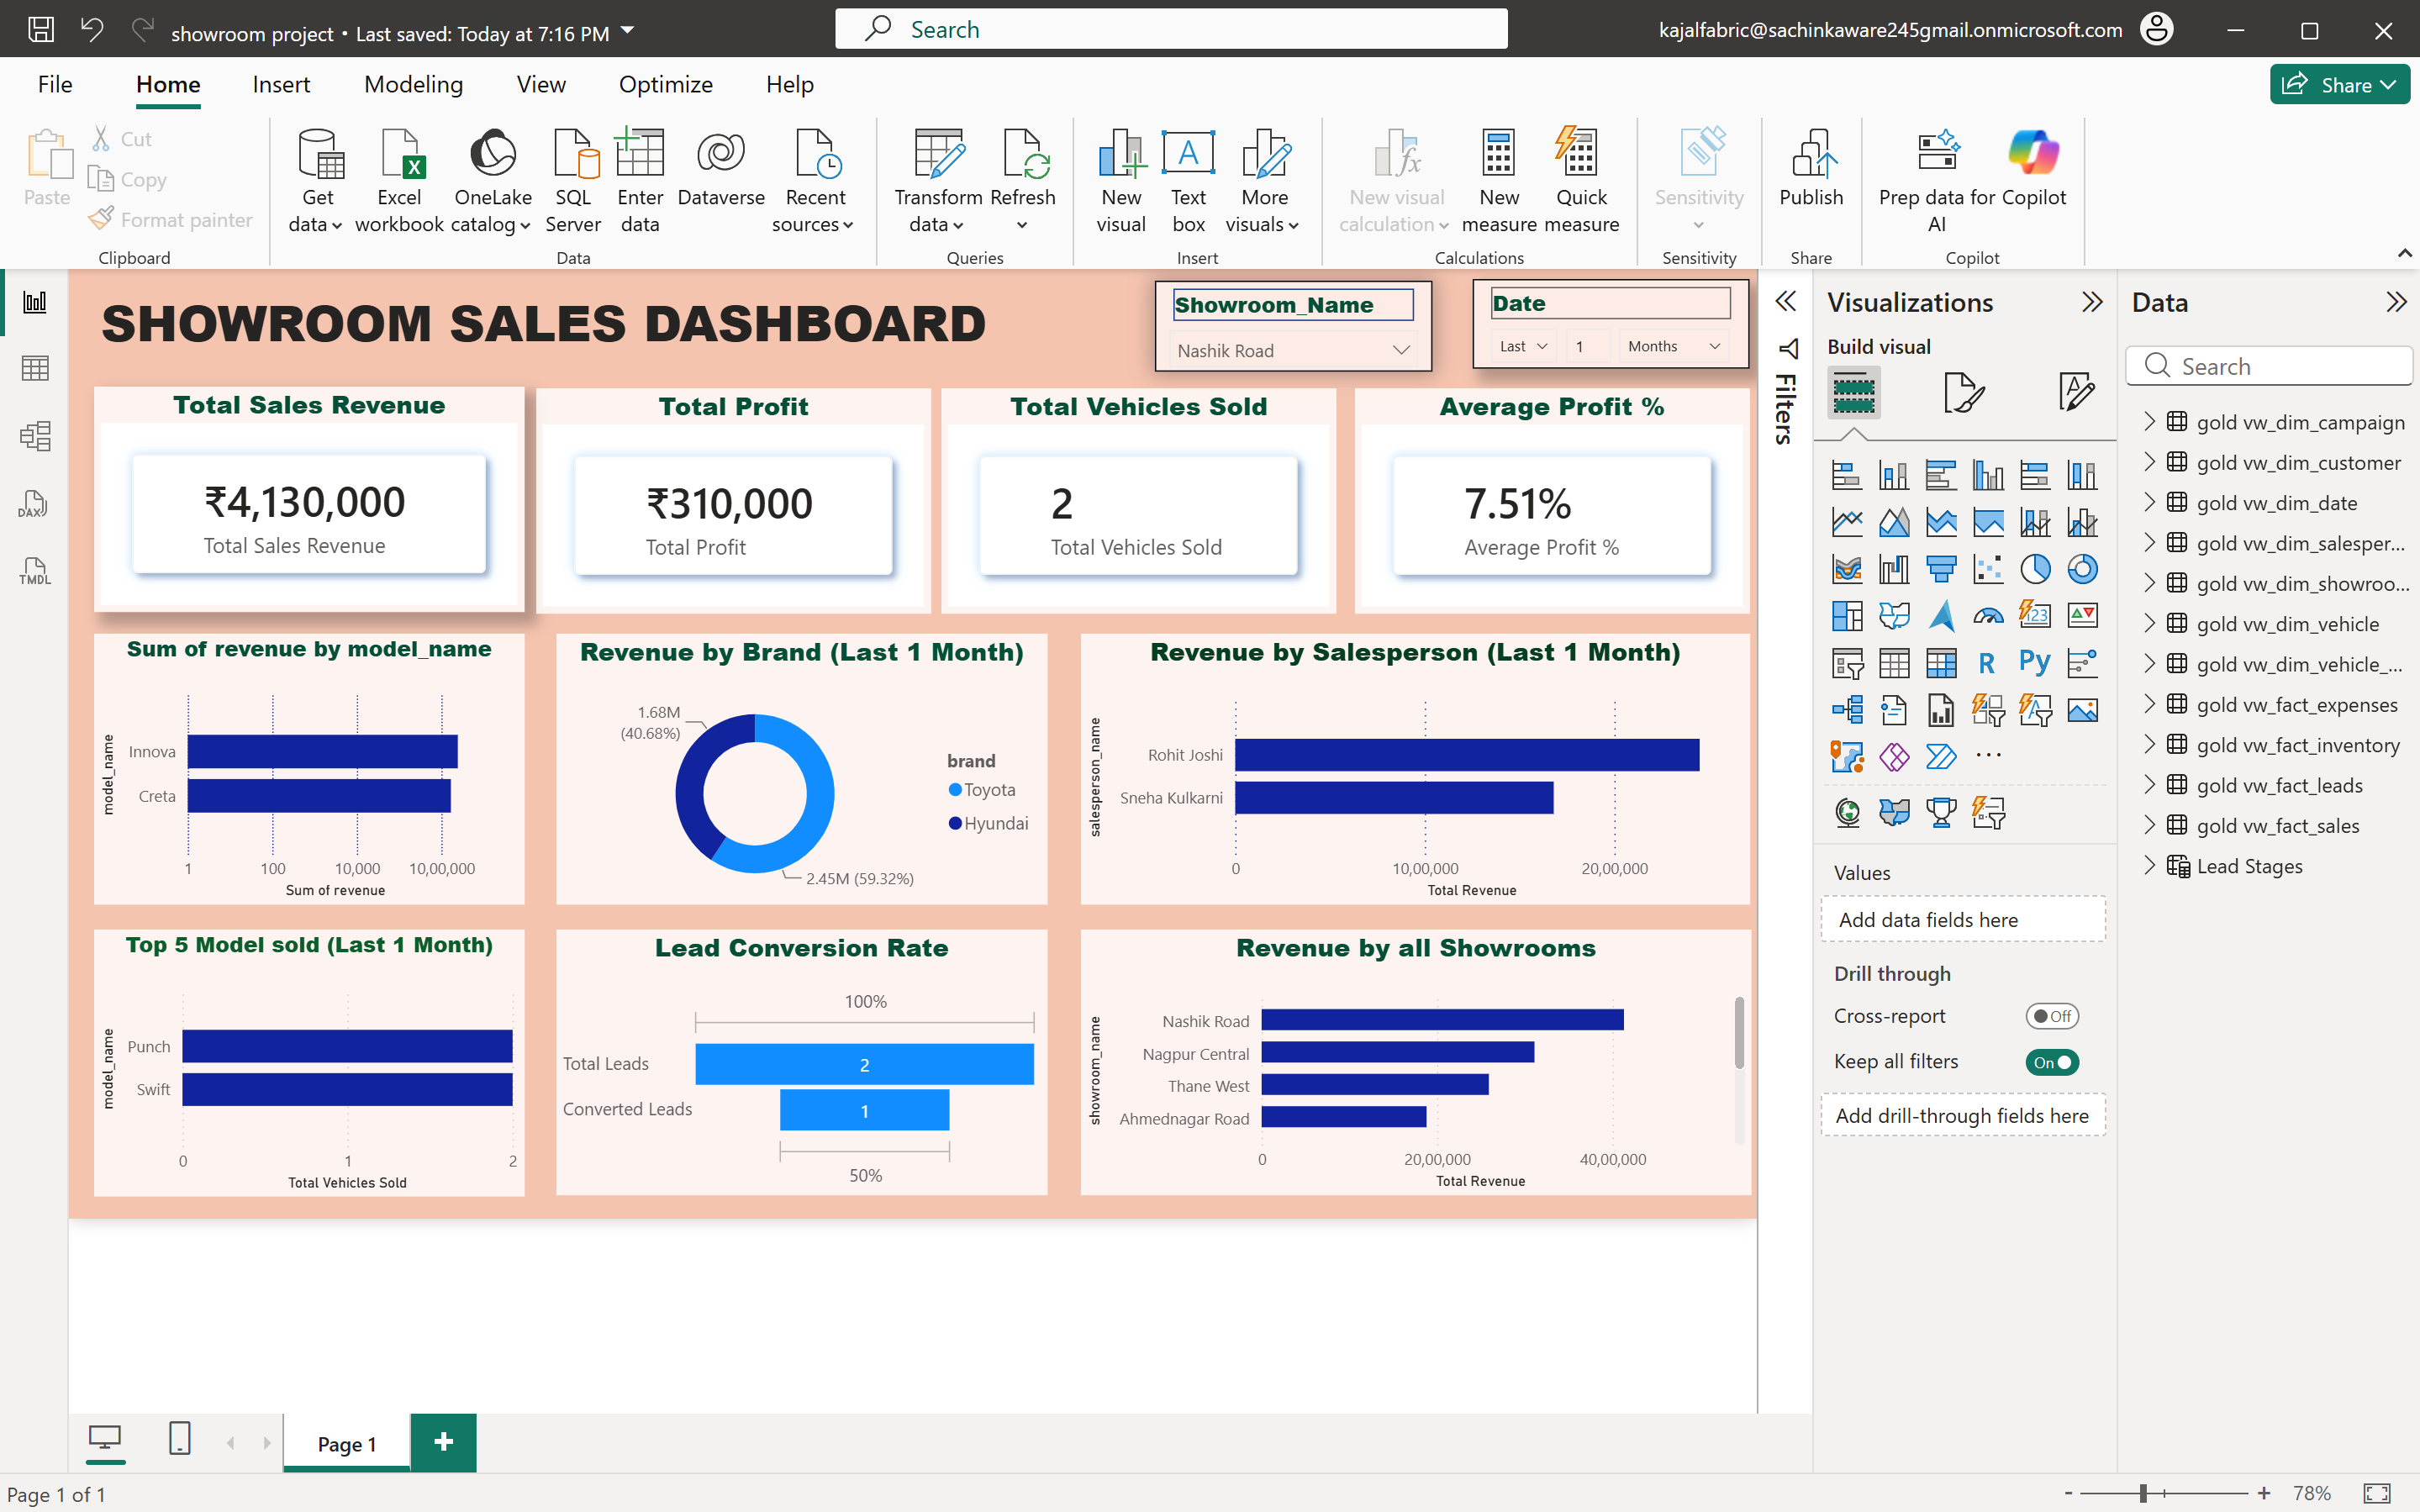

The page's visual inventory and layout, read from the dashboard file:
{"tool":"powerbi","page":{"name":"Page 1","canvas":[1280,720],"ordinal":0},"visuals":[{"type":"slicer","fields":{"Values":["gold vw_dim_showroom.showroom_name"]},"box":[823.6,8.9,210.7,68.8],"z":0},{"type":"textbox","box":[18.9,8.9,702.3,67.9],"z":1000},{"type":"slicer","title":"Select Date","fields":{"Values":["gold vw_dim_date.date"]},"box":[1064.1,7.8,210,68],"z":2000},{"type":"cardVisual","title":"Total Sales Revenue","fields":{"Data":["gold vw_dim_campaign.Total Sales Revenue"]},"box":[19.1,89.2,326.4,170.8],"z":3000},{"type":"cardVisual","title":"Total Profit","fields":{"Data":["gold vw_dim_campaign.Total Profit"]},"box":[354.4,90.5,299.6,170.8],"z":4000},{"type":"cardVisual","title":"Total Vehicles Sold","fields":{"Data":["gold vw_dim_campaign.Total Vehicles Sold"]},"box":[661.7,90.5,299.6,170.8],"z":5000},{"type":"cardVisual","title":"Average Profit %","fields":{"Data":["gold vw_dim_campaign.Average Profit %"]},"box":[975,90.2,299.6,170.8],"z":6000},{"type":"clusteredBarChart","fields":{"Category":["gold vw_dim_vehicle_model.model_name"],"Y":["Sum(gold vw_fact_sales.revenue)"]},"box":[19.1,276.7,326.4,205.3],"z":7000},{"type":"donutChart","title":"Revenue by Brand (Last 1 Month)","fields":{"Category":["gold vw_fact_sales.brand"],"Y":["Sum(gold vw_fact_sales.revenue)"]},"box":[369.7,276.7,372.3,205.3],"z":8000},{"type":"clusteredBarChart","title":"Revenue by  all Showrooms","fields":{"Category":["gold vw_dim_showroom.showroom_name"],"Y":["gold vw_dim_campaign.Total Revenue"]},"box":[767.5,501,508.7,201.4],"z":9000},{"type":"clusteredBarChart","title":"Revenue by Salesperson (Last 1 Month)","fields":{"Category":["gold vw_dim_salesperson.salesperson_name"],"Y":["gold vw_dim_campaign.Total Revenue"]},"box":[767.5,276.7,507.4,205.3],"z":10000},{"type":"clusteredBarChart","title":"Top 5 Model sold (Last 1 Month)","fields":{"Category":["gold vw_dim_vehicle.model_name"],"Y":["gold vw_dim_campaign.Total Vehicles Sold"]},"box":[19.1,501,326.4,202.7],"z":11000},{"type":"funnel","title":"Lead Conversion Rate","fields":{"Category":["Lead Stages.Stage"],"Y":["Lead Stages.Lead Stage Value"]},"box":[369.7,501,372.3,201.4],"z":12000}]}

Visuals, with their boxes on the page's 1280x720 design canvas (x1, y1, x2, y2). These are canvas units, not pixel positions in the 2420x1512 screenshot, which may show the page scaled, cropped or inside an application window:
slicer - gold vw_dim_showroom.showroom_name: x1=824, y1=9, x2=1034, y2=78
textbox: x1=19, y1=9, x2=721, y2=77
"Select Date" slicer: x1=1064, y1=8, x2=1274, y2=76
"Total Sales Revenue" cardVisual: x1=19, y1=89, x2=346, y2=260
"Total Profit" cardVisual: x1=354, y1=90, x2=654, y2=261
"Total Vehicles Sold" cardVisual: x1=662, y1=90, x2=961, y2=261
"Average Profit %" cardVisual: x1=975, y1=90, x2=1275, y2=261
clusteredBarChart - gold vw_dim_vehicle_model.model_name x Sum(gold vw_fact_sales.revenue): x1=19, y1=277, x2=346, y2=482
"Revenue by Brand (Last 1 Month)" donutChart: x1=370, y1=277, x2=742, y2=482
"Revenue by  all Showrooms" clusteredBarChart: x1=768, y1=501, x2=1276, y2=702
"Revenue by Salesperson (Last 1 Month)" clusteredBarChart: x1=768, y1=277, x2=1275, y2=482
"Top 5 Model sold (Last 1 Month)" clusteredBarChart: x1=19, y1=501, x2=346, y2=704
"Lead Conversion Rate" funnel: x1=370, y1=501, x2=742, y2=702
